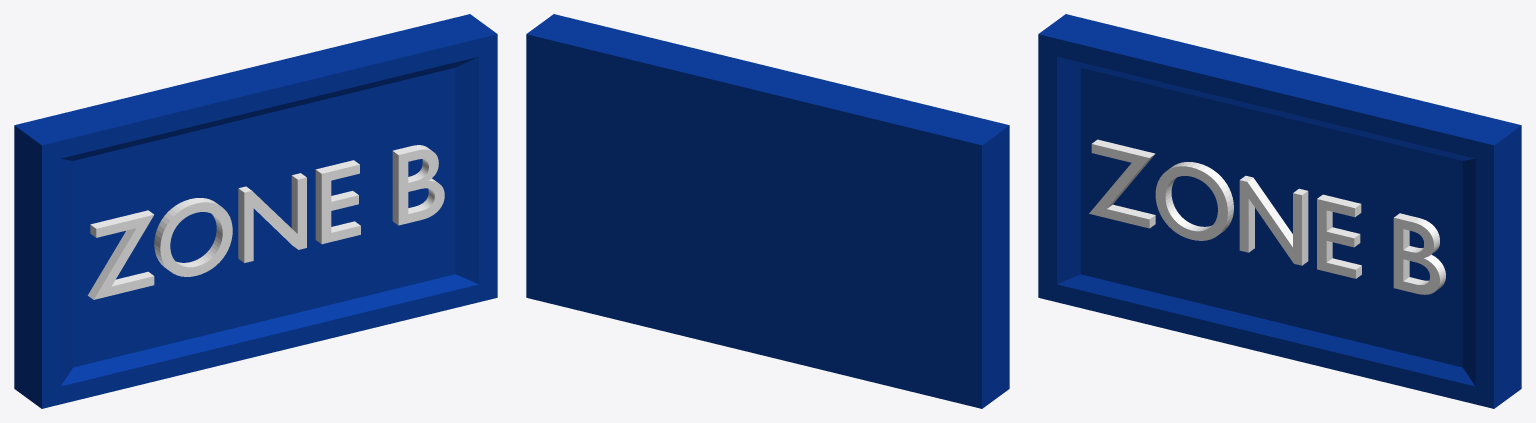
The model's file is ZoneB Panel.fbx.
3 views of the same model, side by side, from view 1: azimuth 30°, elevation 25°; view 2: azimuth 150°, elevation 25°; view 3: azimuth 330°, elevation 25° (orthographic).
Visible parts, largest first — view 1: Cube.001; view 2: Cube.001; view 3: Cube.001.
Part boxes in pixels (box(x1,y1,x2,y2)): Cube.001: box(14, 14, 497, 408); Cube.001: box(526, 14, 1009, 408); Cube.001: box(1038, 14, 1521, 408).
Size of the model in its own units: 261 by 144 by 27.96.
